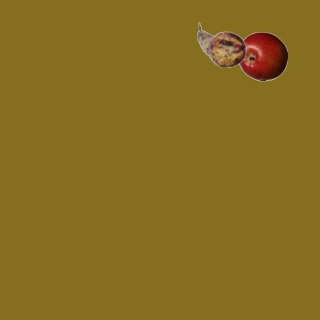Apple Braeburn: (237, 31, 287, 81)
Pear Abate: (196, 20, 246, 70)
